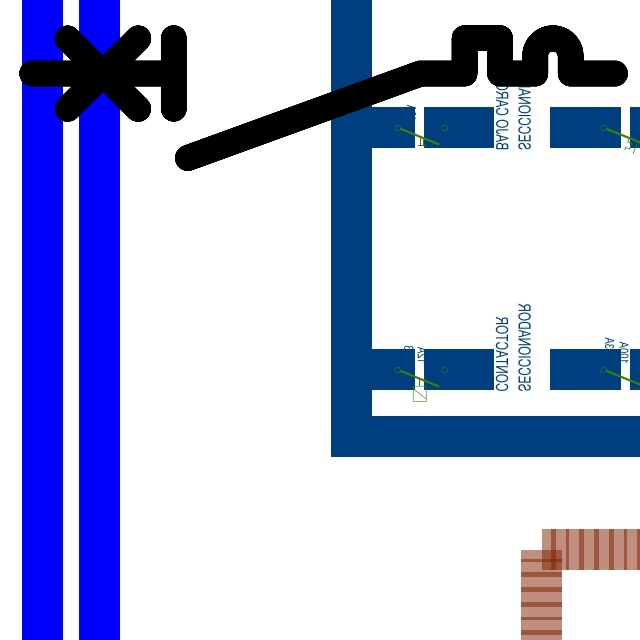interruptor_termomagnetico: (17, 23, 630, 173)
